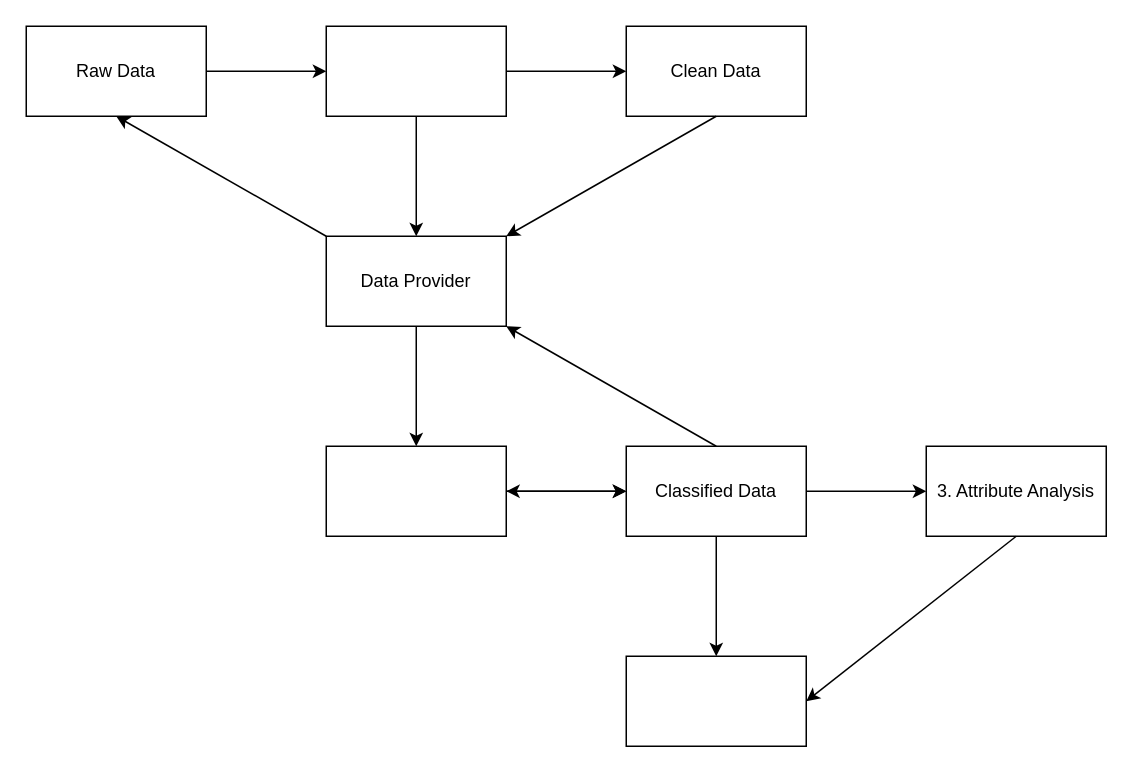
The diagram is 1133 pixels wide and 773 high, and some of its shapes have lost their labels. The shapes that lost their labels are listed below. From the top down, each one's centre as x and y in pixels, then its label:
At [415,70]: "1. PreProcessing".
At [415,490]: "2. Classification".
At [715,700]: "4. Experiments with Data Mining Scheme".
